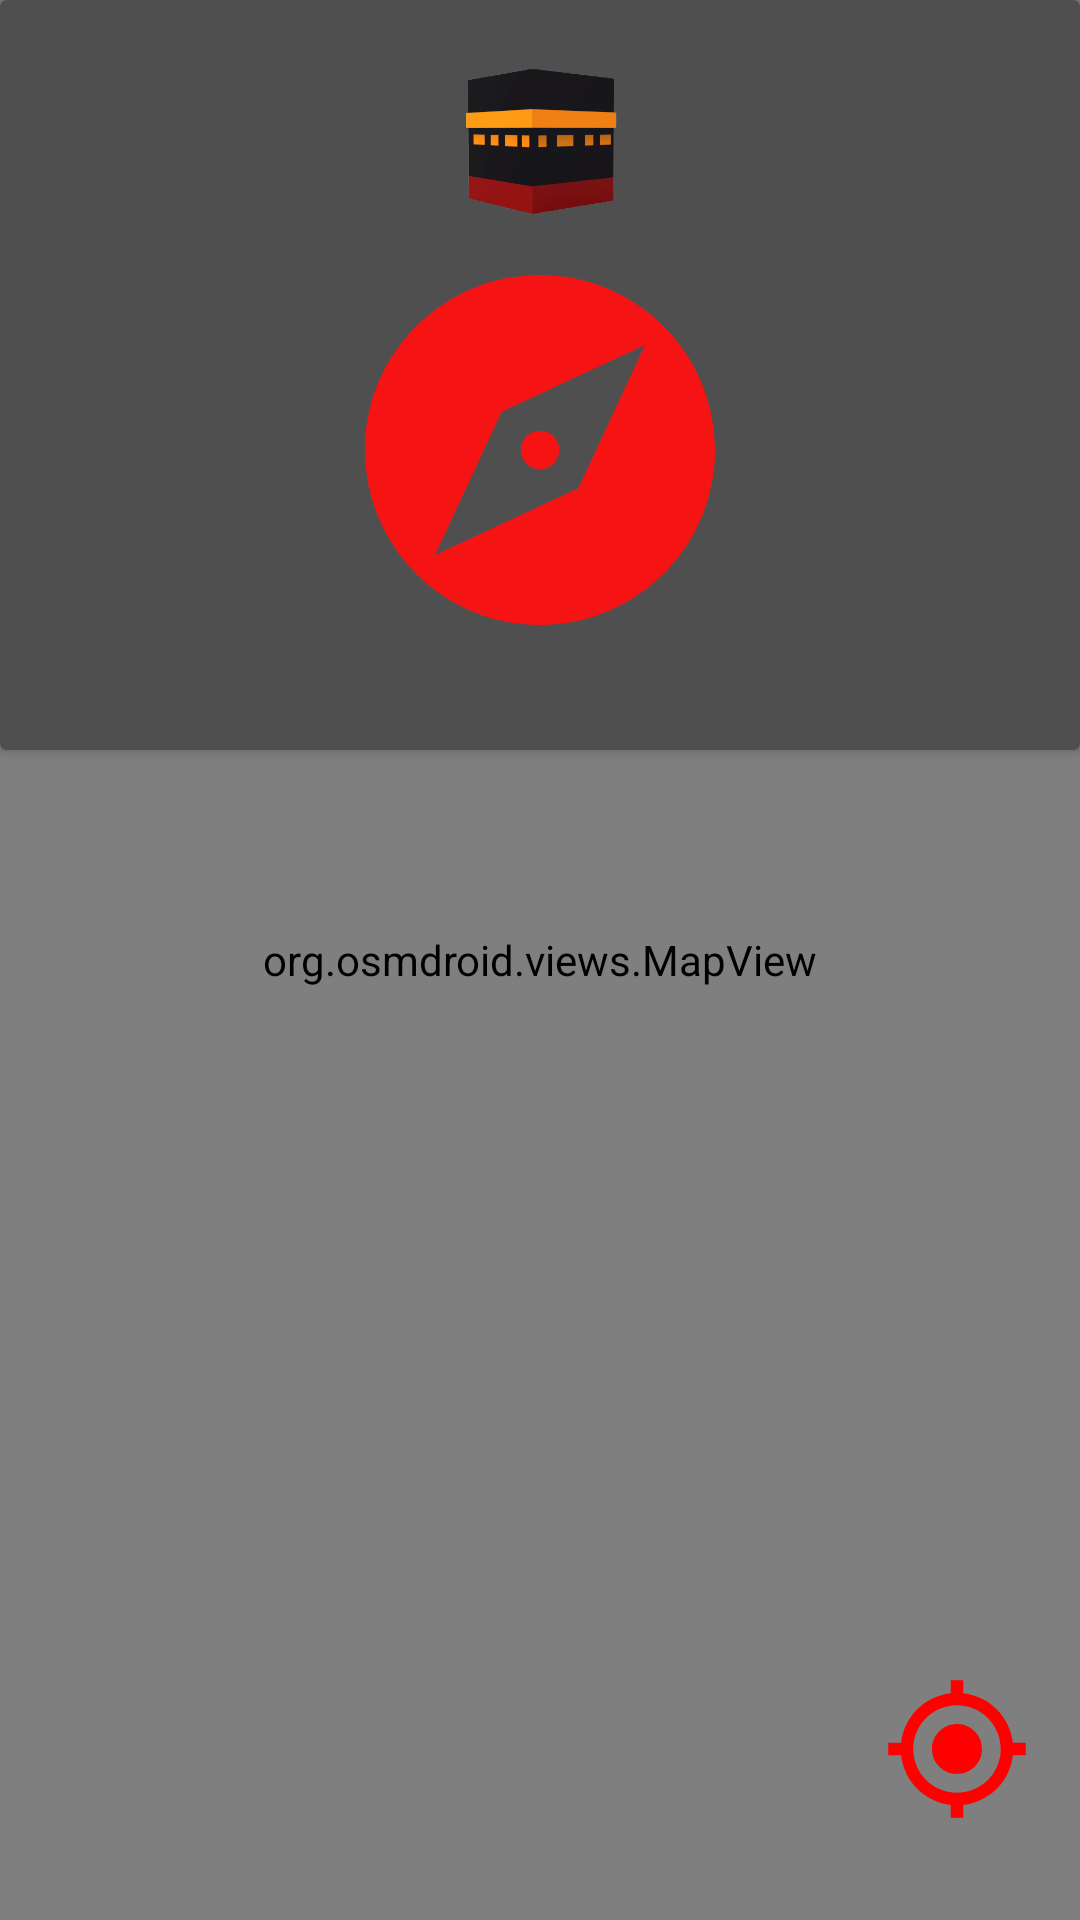

Locate icon controls on the screen. Image size 1080*1920, boxes as (x1, y1, x2, y2).
explore: (365, 275, 715, 625)
location: (888, 1680, 1026, 1818)
